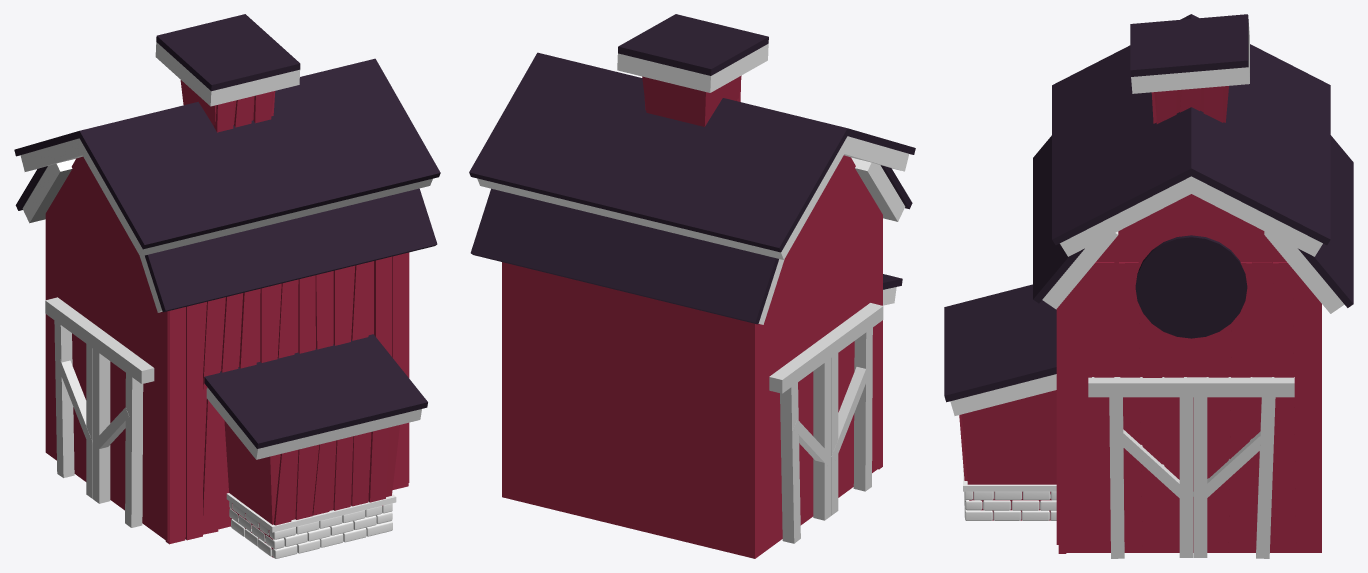
Rendered from Barn_NO_OPTIMIZATION_01.glb.
The picture shows the model from 3 angles, left to right: view 1: azimuth 30°, elevation 25°; view 2: azimuth 150°, elevation 25°; view 3: azimuth 270°, elevation 25°; orthographic projection. The views are drawn at different scales.
Parts seen in each view (by area): view 1: group2_pCube5, pCube2, pCube116, pCube15, pCube6, pCube16, pCube90, pCube91, pCube78, pCube73, pCube75, pCube69 (+25 smaller); view 2: pCube2, group2_pCube5, pCube4, pCube6, pCube73, pCube7, pCube72, pCube70, pCube75, pCube116, pCube69, pCube74 (+1 smaller); view 3: group2_pCube5, pCube2, pCube15, pCylinder1, pCube6, pCube16, pCube4, pCube102, pCube76, pCube103, pCube116, pCube94 (+19 smaller).
Boxes of the visible parts, x1,y1,x2,y2 form: group2_pCube5: (14,58,440,256); pCube2: (45,156,409,541); pCube116: (139,188,437,312); pCube15: (204,334,427,459); pCube6: (155,14,300,106); pCube16: (224,420,399,557); pCube90: (165,307,185,544); pCube91: (185,303,202,540); pCube78: (392,252,408,489); pCube73: (45,297,154,383); pCube75: (125,373,143,527); pCube69: (93,349,110,503); pCube2: (502,155,882,558); group2_pCube5: (469,52,915,259); pCube4: (470,188,784,324); pCube6: (617,14,768,92); pCube73: (769,303,883,393); pCube7: (642,75,741,126); pCube72: (780,382,800,543); pCube70: (813,358,831,520); pCube75: (853,327,872,491); pCube116: (851,157,912,221); pCube69: (831,353,838,515); pCube74: (831,367,869,460); group2_pCube5: (1052,14,1330,256); pCube2: (1061,194,1321,552); pCube15: (944,284,1056,415); pCylinder1: (1135,235,1247,338); pCube6: (1130,14,1249,93); pCube16: (961,390,1056,520); pCube4: (1264,135,1353,313); pCube102: (1273,262,1296,552); pCube76: (1072,267,1091,552); pCube103: (1297,274,1316,552); pCube116: (1033,135,1118,309); pCube94: (1094,262,1114,552).
Size of the model in its own units: 9.8 by 13.46 by 10.98.
